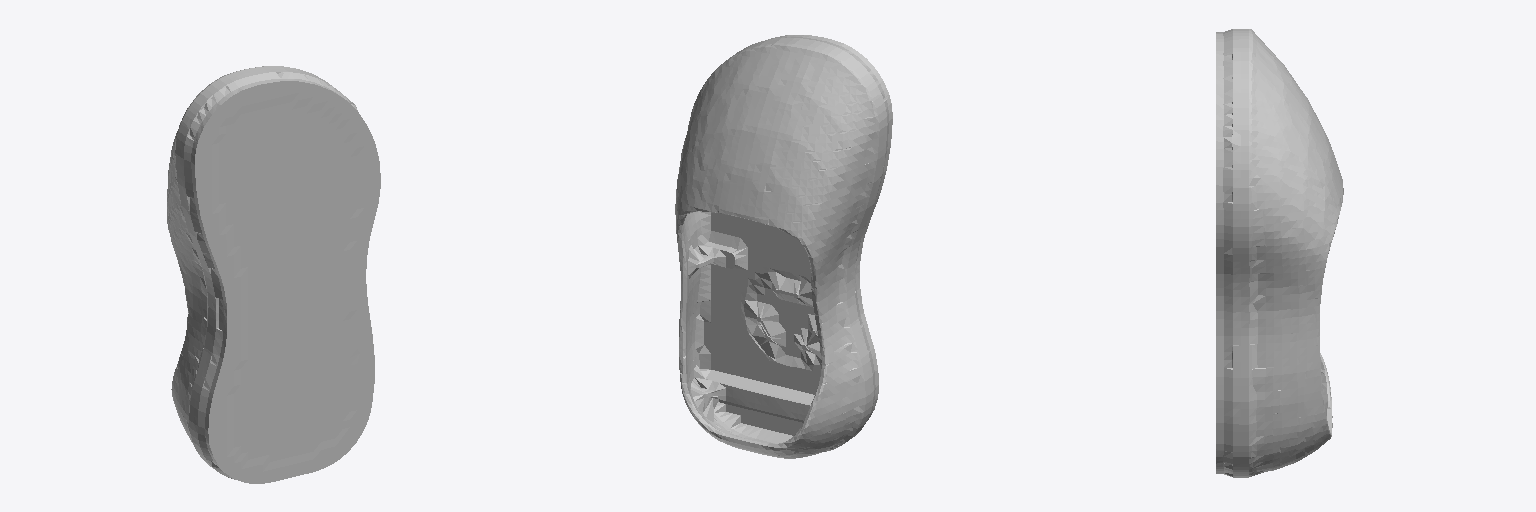
Rendered from icub_simple_collision_l_foot.obj.
3 views of the same model, side by side, from view 1: azimuth 30°, elevation 25°; view 2: azimuth 150°, elevation 25°; view 3: azimuth 270°, elevation 25° (orthographic).
Visible parts, largest first — view 1: Sim_Sea_2-5_L_Sole_Prt-Binary_Sim_Sea_2-5_L_Sole_Prt-Binary; view 2: Sim_Sea_2-5_L_Sole_Prt-Binary_Sim_Sea_2-5_L_Sole_Prt-Binary; view 3: Sim_Sea_2-5_L_Sole_Prt-Binary_Sim_Sea_2-5_L_Sole_Prt-Binary.
Boxes of the visible parts, x1,y1,x2,y2 form: Sim_Sea_2-5_L_Sole_Prt-Binary_Sim_Sea_2-5_L_Sole_Prt-Binary: [167, 66, 380, 483]; Sim_Sea_2-5_L_Sole_Prt-Binary_Sim_Sea_2-5_L_Sole_Prt-Binary: [675, 35, 892, 458]; Sim_Sea_2-5_L_Sole_Prt-Binary_Sim_Sea_2-5_L_Sole_Prt-Binary: [1216, 29, 1343, 477].
Bounding box in the file's own units: 0.0979 × 0.1989 × 0.0561.